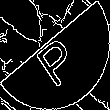P_NW: (28, 24, 82, 86)
